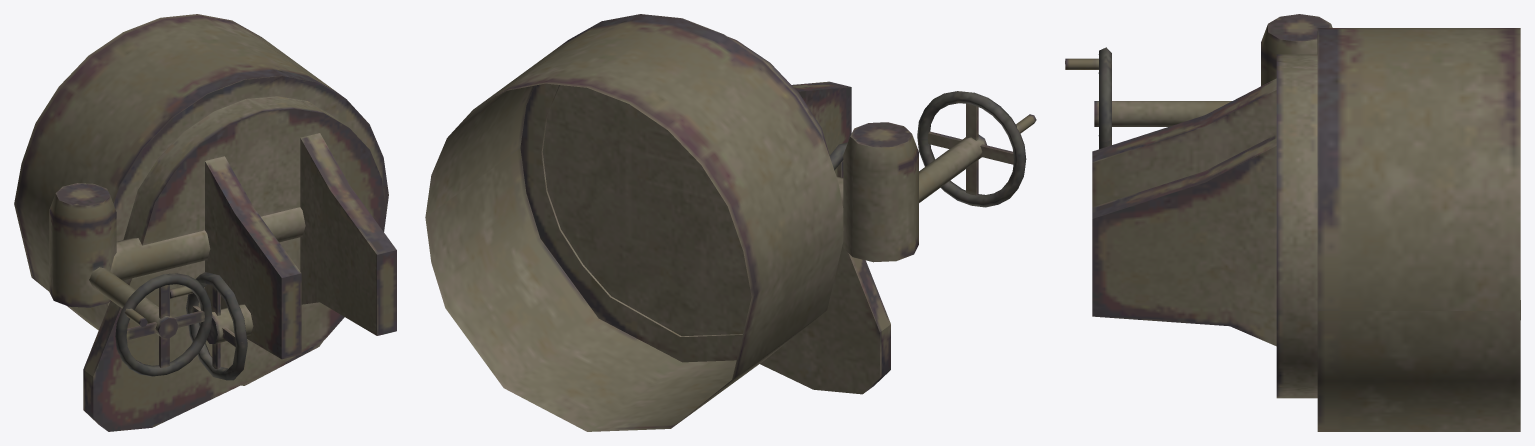
File: Turret_03.glb
3 renders of one model, left to right at view 1: azimuth 30°, elevation 25°; view 2: azimuth 150°, elevation 25°; view 3: azimuth 270°, elevation 25°, orthographic. The views are drawn at different scales.
Parts seen in each view (by area): view 1: set_0_group_0; view 2: set_0_group_0; view 3: set_0_group_0.
Boxes of the visible parts, left/top/right/bottom form: set_0_group_0: left=14, top=14, right=396, bottom=431; set_0_group_0: left=425, top=14, right=1036, bottom=431; set_0_group_0: left=1065, top=14, right=1520, bottom=431.
Size of the model in its own units: 0.6361 by 0.5195 by 0.578.
1 material, 1 textured.
